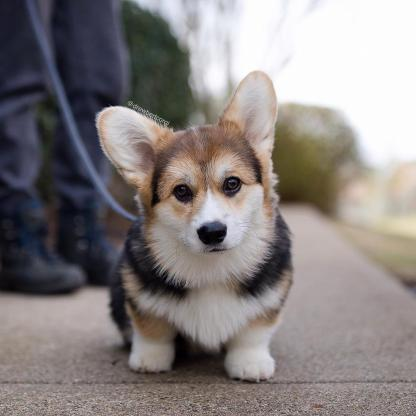Korgi: (84, 69, 300, 384)
